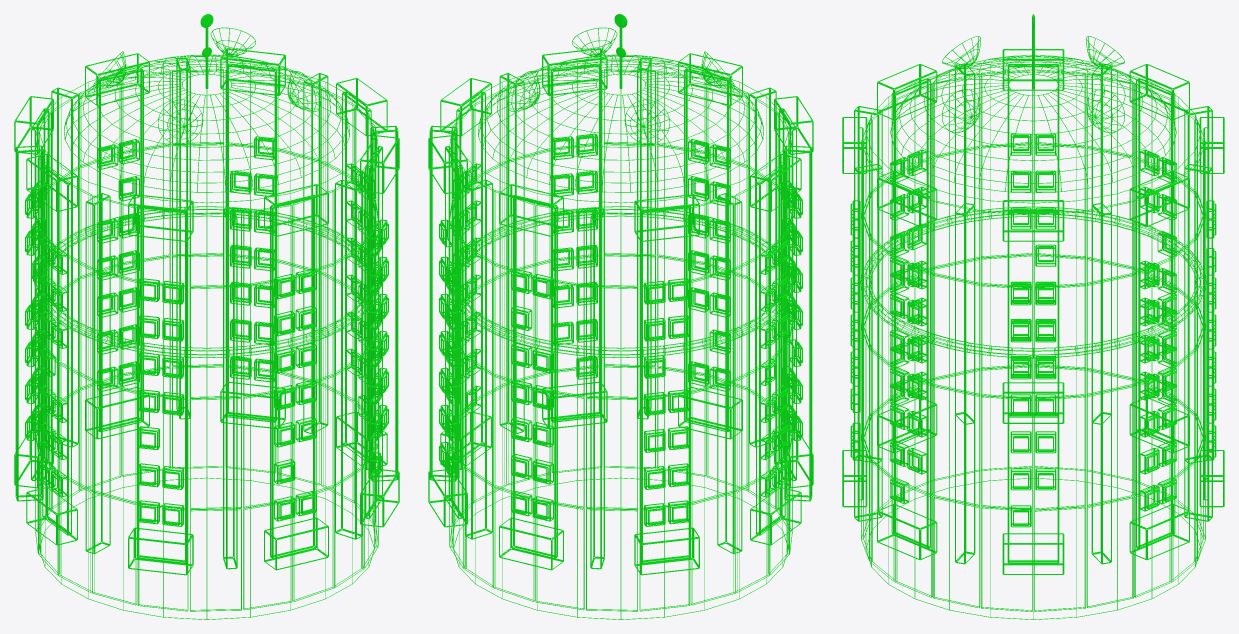
The model's file is repair-facility-wireframe.glb.
3 views of the same model, side by side, from view 1: azimuth 30°, elevation 25°; view 2: azimuth 150°, elevation 25°; view 3: azimuth 270°, elevation 25° (orthographic).
Visible parts, largest first — view 1: chassis technical wire, droid-ports technical wire, four-data-dishes technical wire; view 2: chassis technical wire, droid-ports technical wire, four-data-dishes technical wire; view 3: chassis technical wire, droid-ports technical wire, four-data-dishes technical wire.
Part boxes in pixels (box(x1,y1,x2,y2)): chassis technical wire: box(14, 48, 399, 619); droid-ports technical wire: box(25, 136, 388, 526); four-data-dishes technical wire: box(93, 27, 320, 144); chassis technical wire: box(428, 48, 813, 619); droid-ports technical wire: box(439, 133, 802, 526); four-data-dishes technical wire: box(507, 27, 734, 144); chassis technical wire: box(842, 49, 1224, 619); droid-ports technical wire: box(850, 133, 1216, 527); four-data-dishes technical wire: box(942, 36, 1124, 132).
Size of the model in its own units: 1.87 by 2.89 by 1.87.
